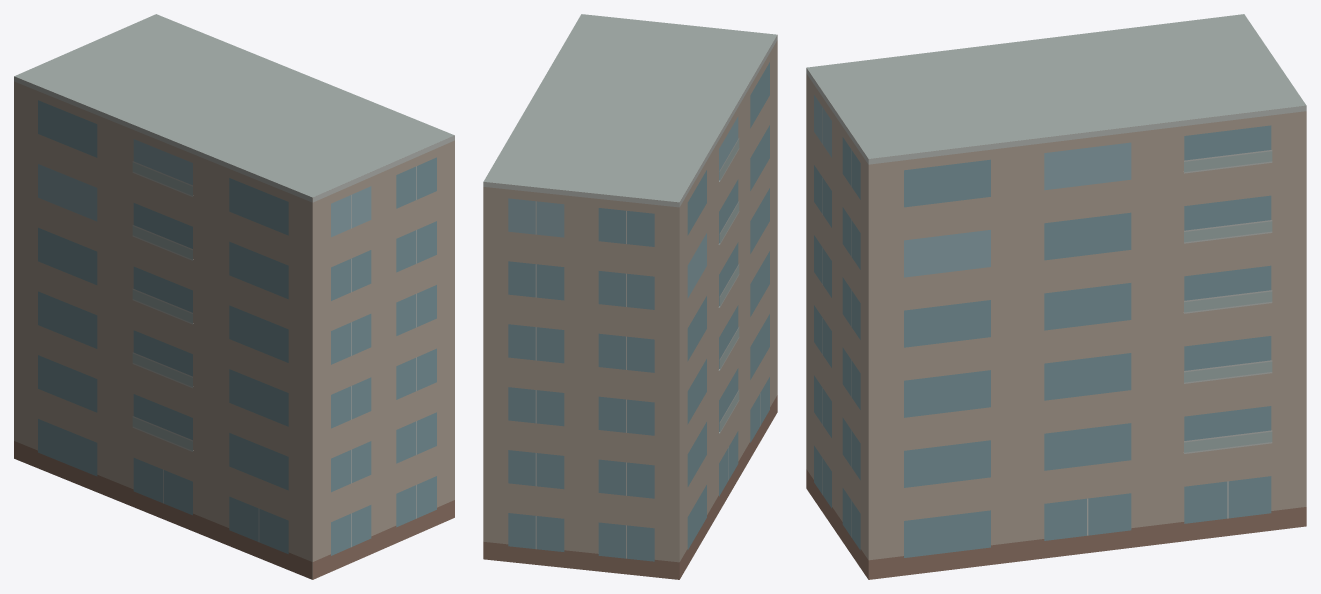
Rendered from survey-upis-32564677.glb.
3 views of the same model, side by side, from view 1: azimuth 30°, elevation 25°; view 2: azimuth 150°, elevation 25°; view 3: azimuth 270°, elevation 25° (orthographic). The views are drawn at different scales.
Parts seen in each view (by area): view 1: survey-upis-32564677.tmp; view 2: survey-upis-32564677.tmp; view 3: survey-upis-32564677.tmp.
Boxes of the visible parts, x1,y1,x2,y2 form: survey-upis-32564677.tmp: (14,14,454,579); survey-upis-32564677.tmp: (483,14,777,579); survey-upis-32564677.tmp: (806,14,1306,579).
Bounding box in the file's own units: 13.54 × 18.3 × 19.72.
